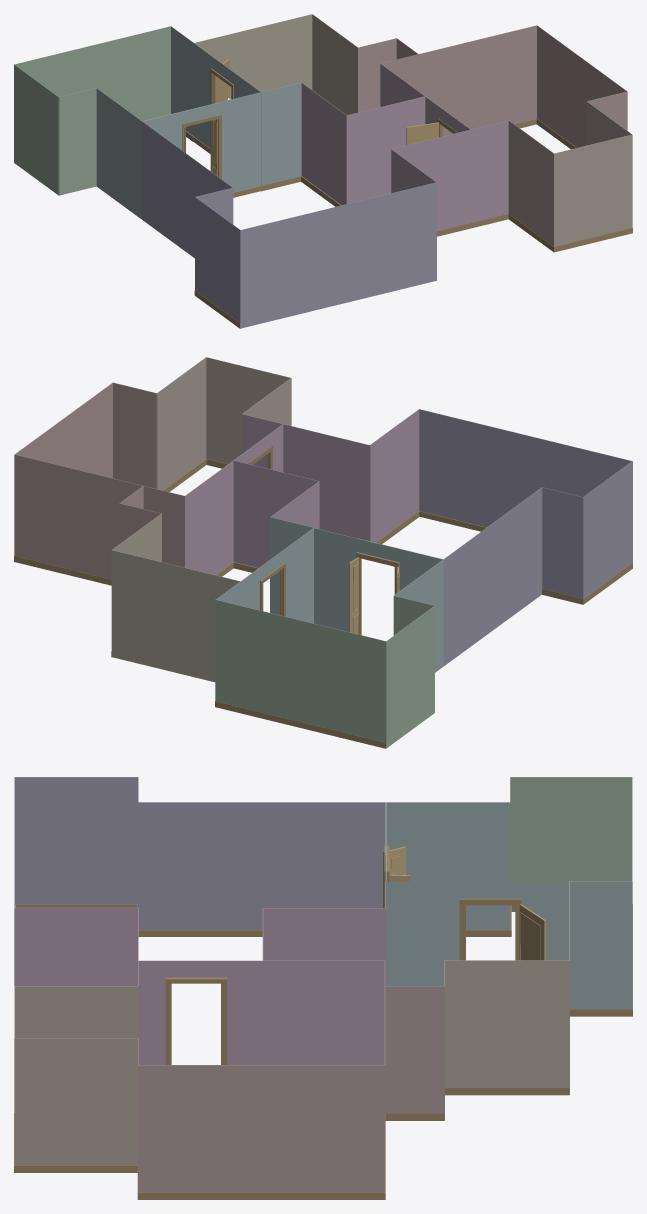
The model's file is solidplan.fbx.
3 views of the same model, one above another, from view 1: azimuth 30°, elevation 25°; view 2: azimuth 150°, elevation 25°; view 3: azimuth 270°, elevation 25° (orthographic). The views are drawn at different scales.
Visible parts, largest first — view 1: DoorFrame.001; view 2: DoorFrame.001; view 3: DoorFrame.001.
Part boxes in pixels (<box>): DoorFrame.001: <box>14,14,632,328</box>; DoorFrame.001: <box>14,357,632,748</box>; DoorFrame.001: <box>14,777,632,1199</box>.
Bounding box in the file's own units: 1106 × 241 × 1003.
